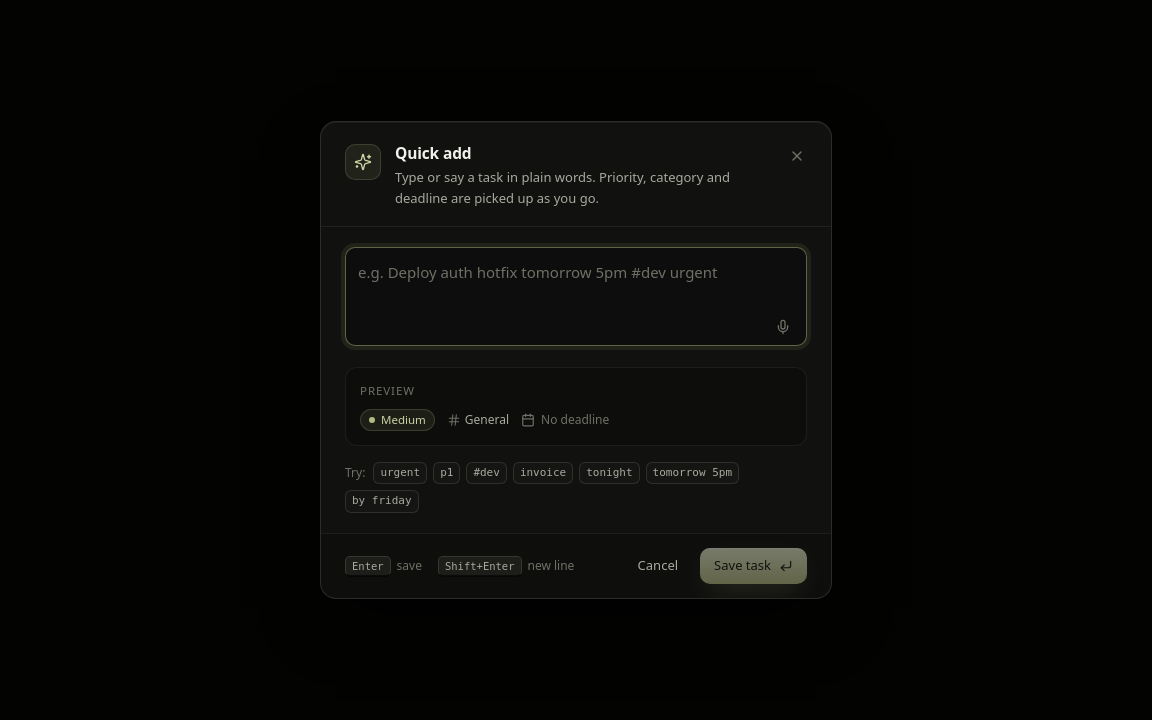
ManualCaptureModal (quick add) › saves a real ISO deadline (regression: stored "Today at 5:00 PM")
Later steps or results of the test are not shown.
Type "Deploy hotfix tomorrow 5pm #dev urgent" into the text box with placeholder "e.g. Deploy auth hotfix tomorrow 5pm #dev urgent" at (576, 296), box [345, 247, 807, 346]
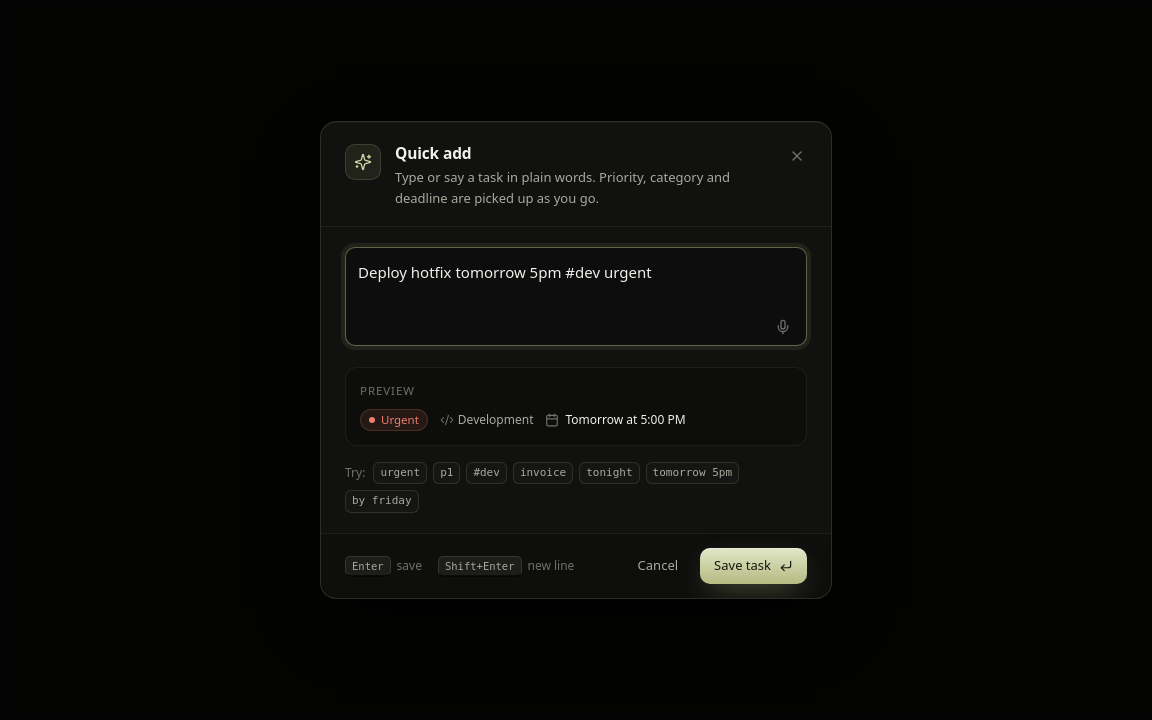
expect the text "Tomorrow at 5:00 PM" is shown: met, box [546, 411, 686, 429]
